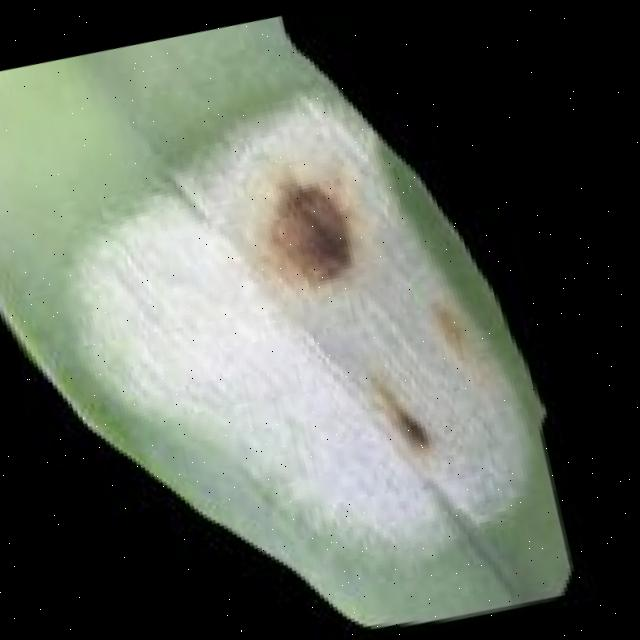mite: (246, 154, 444, 477), (272, 185, 350, 275), (385, 392, 435, 449)
spots: (0, 11, 590, 640)
sunburn: (246, 161, 368, 297)
